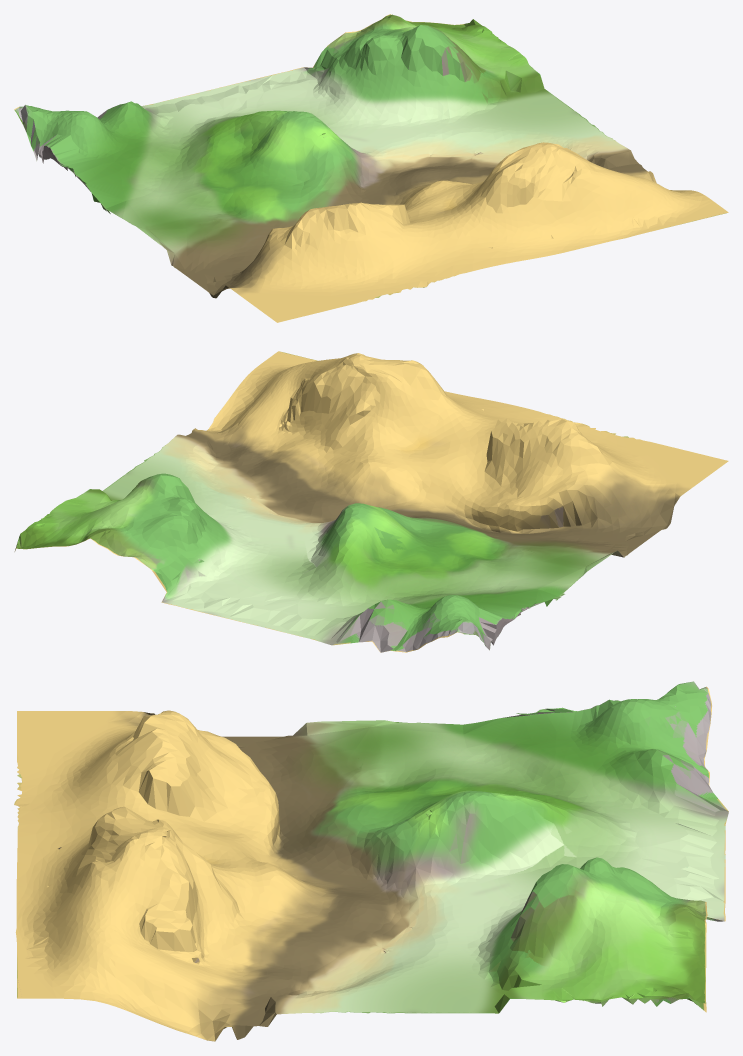
The model's file is TerrainA3.fbx.
The picture shows the model from 3 angles, top to bottom: view 1: azimuth 30°, elevation 25°; view 2: azimuth 150°, elevation 25°; view 3: azimuth 270°, elevation 25°; orthographic projection. The views are drawn at different scales.
Parts seen in each view (by area): view 1: Terrain1.001; view 2: Terrain1.001; view 3: Terrain1.001.
Part boxes in pixels (x1=…): Terrain1.001: x1=14, y1=14, x2=728, y2=322; Terrain1.001: x1=14, y1=351, x2=728, y2=652; Terrain1.001: x1=14, y1=681, x2=728, y2=1041.
Bounding box in the file's own units: 20299 × 3970 × 21033.
1 material, 1 textured.
